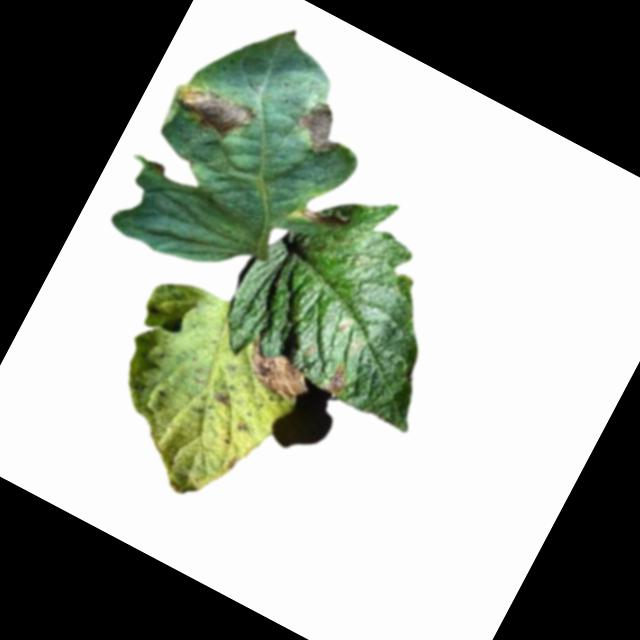Early_blight: (170, 73, 260, 151), (234, 337, 316, 406), (284, 95, 353, 165), (299, 194, 353, 237), (323, 362, 355, 398), (212, 392, 229, 406)
